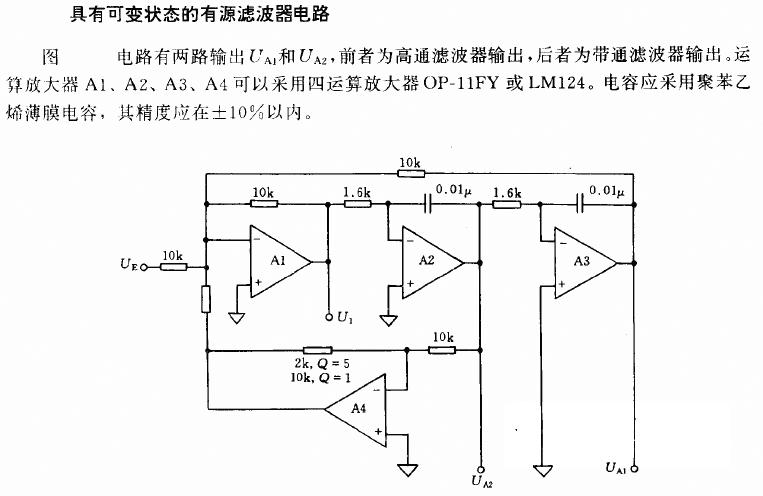amplifier: (548, 223, 621, 305), (396, 222, 468, 305), (320, 369, 391, 450), (244, 222, 315, 300)
cap1: (420, 192, 435, 214), (574, 191, 587, 215)
res1: (198, 282, 213, 317), (156, 260, 190, 274), (490, 197, 523, 211), (425, 344, 460, 357), (394, 167, 428, 180), (247, 197, 281, 209), (341, 198, 375, 210), (300, 345, 334, 356)
